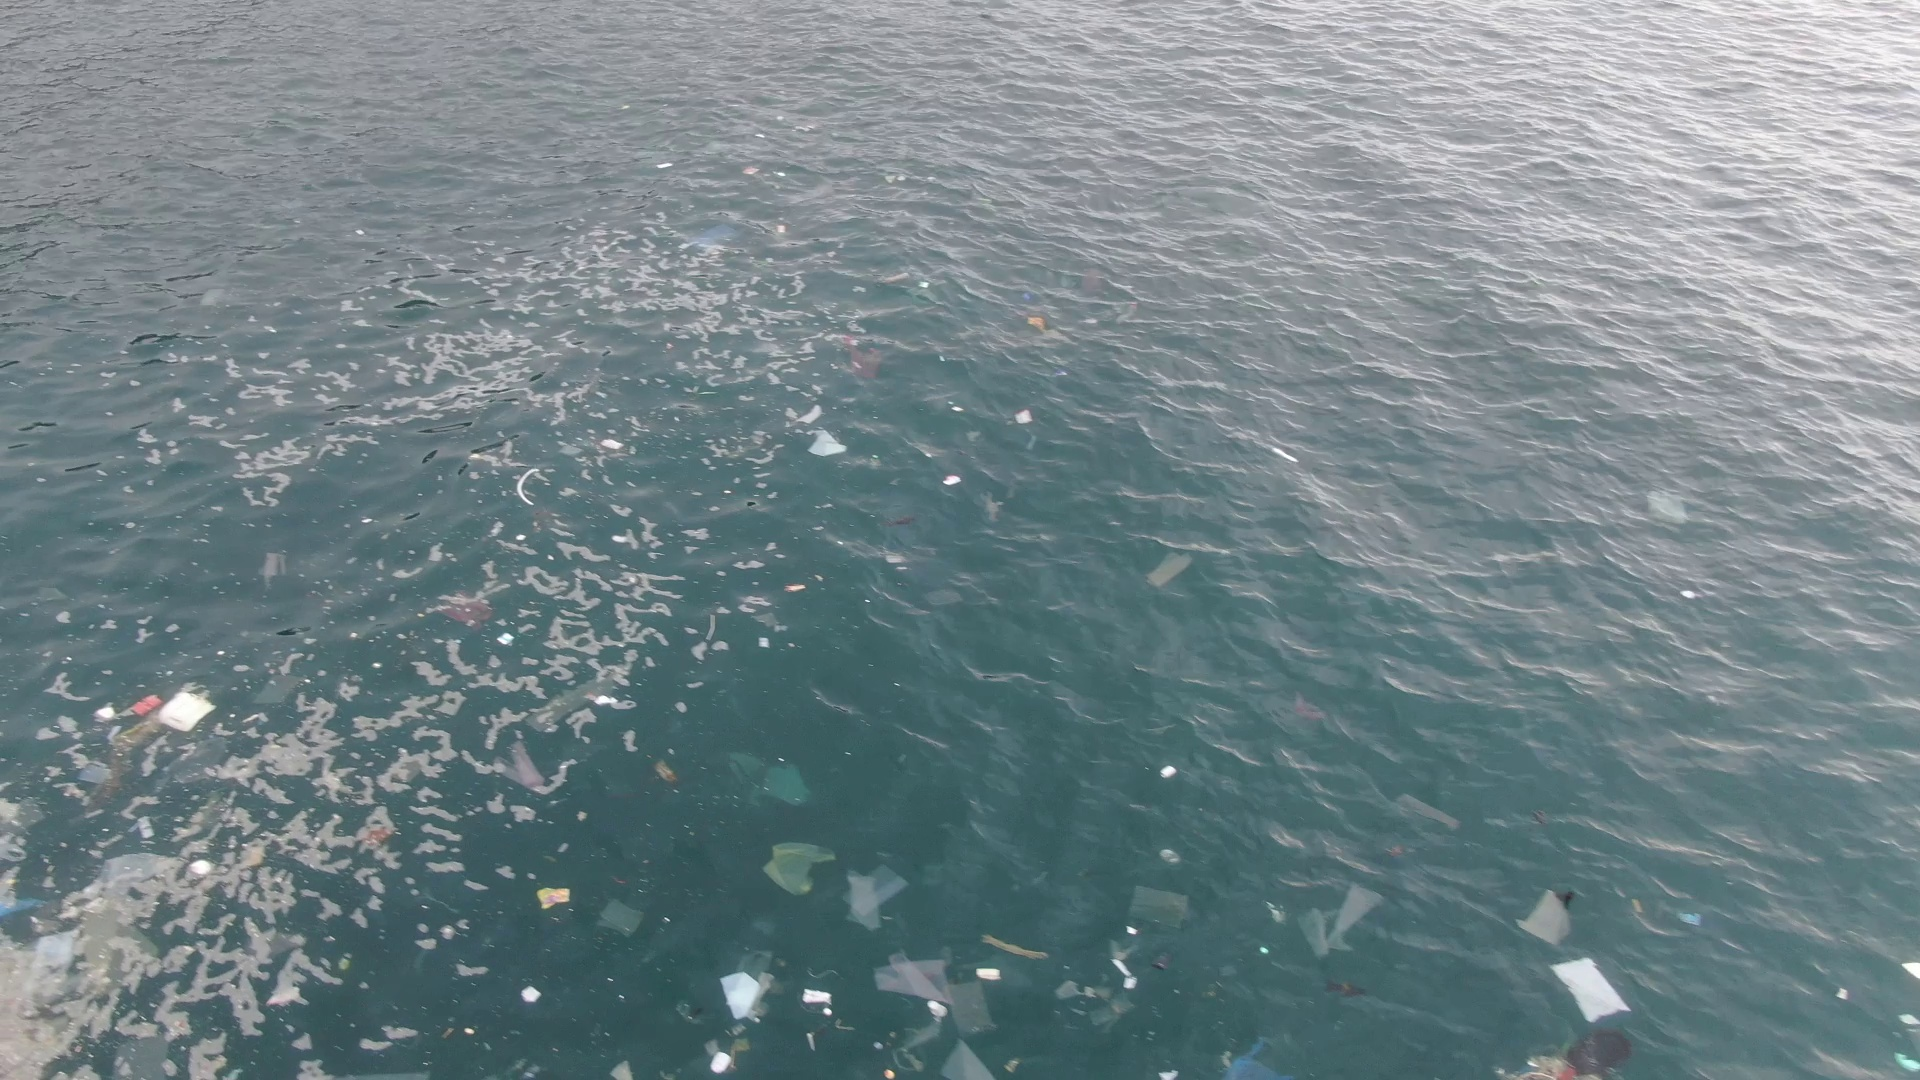garbage: (878, 934, 1046, 1080), (78, 686, 218, 786), (1059, 940, 1139, 1027), (1509, 1029, 1635, 1080), (1302, 881, 1382, 959), (1545, 957, 1635, 1022), (534, 676, 620, 735), (762, 837, 833, 905), (841, 862, 909, 931), (803, 967, 857, 1048), (732, 754, 811, 810), (1518, 887, 1580, 949), (1124, 884, 1191, 938), (723, 963, 777, 1025), (436, 588, 498, 642), (1398, 790, 1465, 837), (1222, 1042, 1298, 1080), (798, 406, 847, 463), (844, 334, 884, 386), (1146, 551, 1191, 589), (600, 901, 645, 938), (707, 1038, 749, 1075), (690, 222, 736, 251), (353, 822, 398, 849), (535, 885, 575, 911), (1294, 692, 1327, 724), (1894, 1048, 1920, 1075), (655, 760, 679, 789), (1271, 446, 1302, 465), (1677, 909, 1702, 927), (520, 985, 542, 1004), (1026, 315, 1044, 335), (601, 436, 624, 452), (1160, 851, 1182, 865), (1014, 410, 1034, 425), (943, 475, 964, 488), (1160, 764, 1178, 778), (785, 583, 806, 593), (1836, 986, 1849, 1000), (745, 164, 760, 175), (657, 161, 675, 169)
